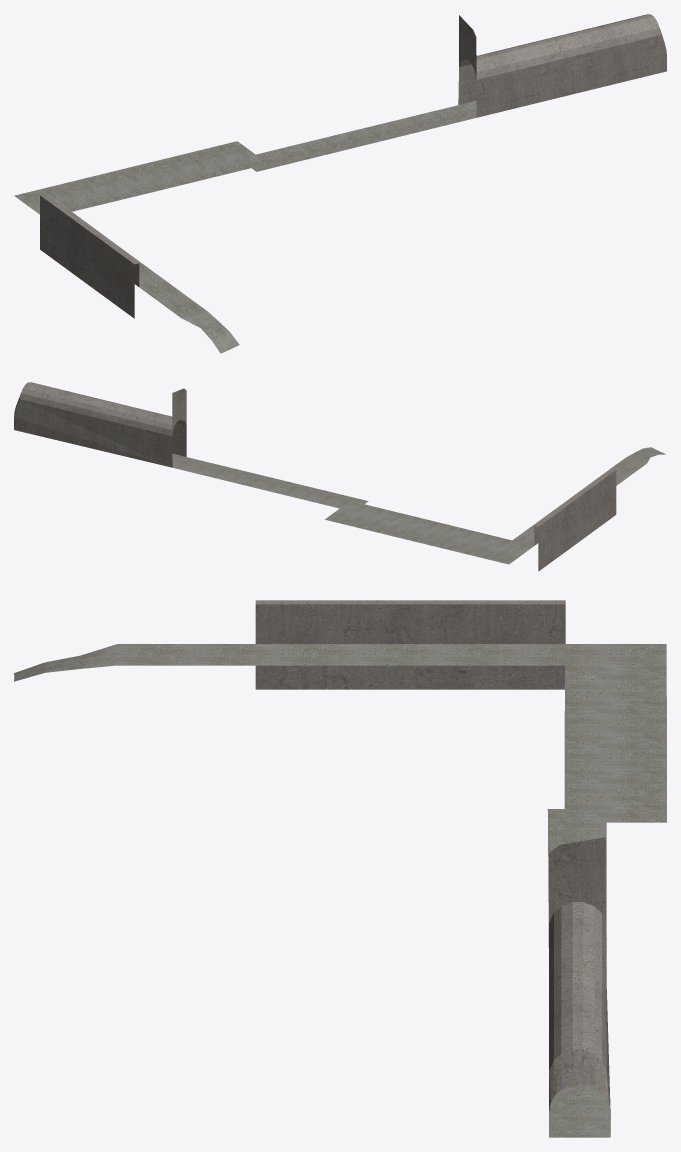
Rendered from mscptunn2_lae2.obj.
3 views of the same model, one above another, from view 1: azimuth 30°, elevation 25°; view 2: azimuth 150°, elevation 25°; view 3: azimuth 270°, elevation 25° (orthographic). The views are drawn at different scales.
Visible parts, largest first — view 1: MsCpTunn2_LAe2; view 2: MsCpTunn2_LAe2; view 3: MsCpTunn2_LAe2.
Part boxes in pixels (left/top/right/bottom): MsCpTunn2_LAe2: left=14, top=14, right=666, bottom=353; MsCpTunn2_LAe2: left=14, top=382, right=665, bottom=571; MsCpTunn2_LAe2: left=14, top=600, right=666, bottom=1137.
Bounding box in the file's own units: 115 × 21.25 × 63.72.
